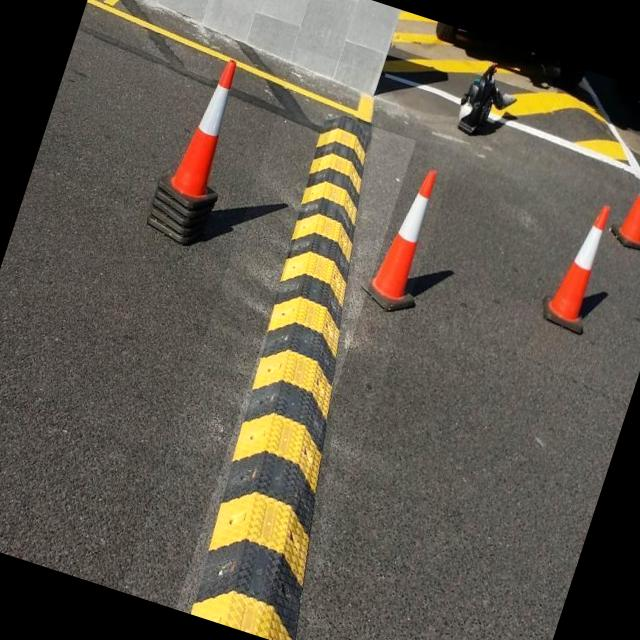bump: (176, 114, 417, 636)
